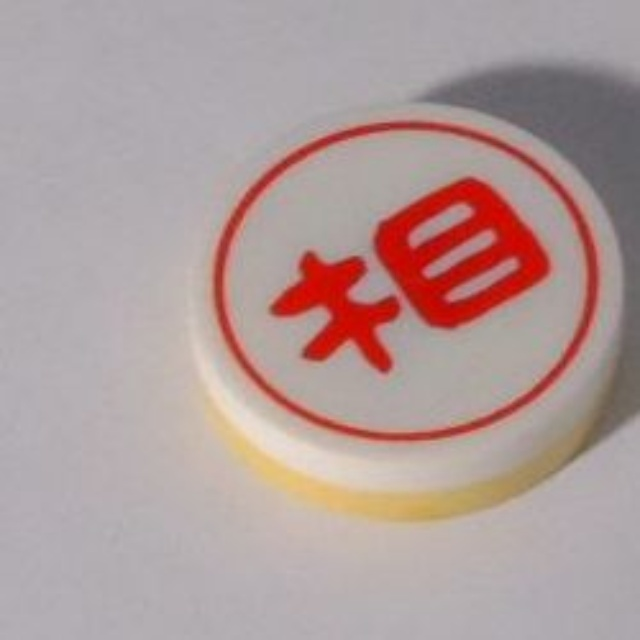red_bo: (177, 93, 635, 519)
